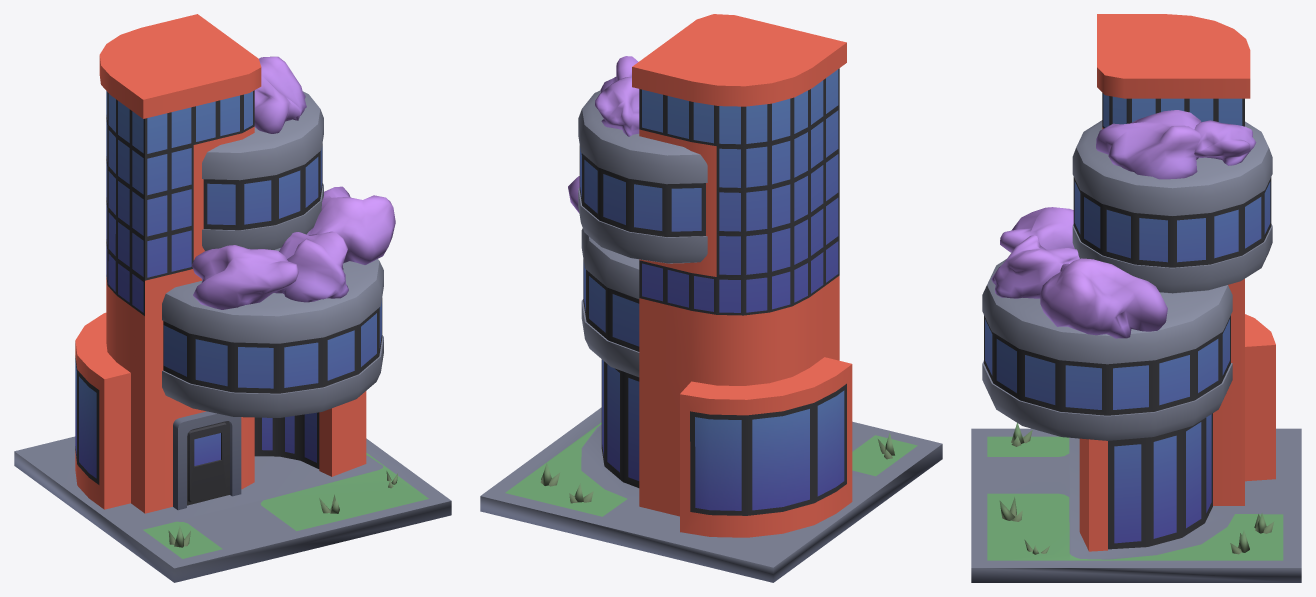
The model's file is building-small-b.glb.
The picture shows the model from 3 angles, left to right: view 1: azimuth 30°, elevation 25°; view 2: azimuth 150°, elevation 25°; view 3: azimuth 270°, elevation 25°; orthographic projection. The views are drawn at different scales.
Parts seen in each view (by area): view 1: building-small-b; view 2: building-small-b; view 3: building-small-b.
Boxes of the visible parts, x1,y1,x2,y2 form: building-small-b: [14, 14, 451, 582]; building-small-b: [480, 14, 942, 582]; building-small-b: [971, 14, 1301, 582].
Size of the model in its own units: 1 by 1.49 by 1.
1 material, 1 textured.
